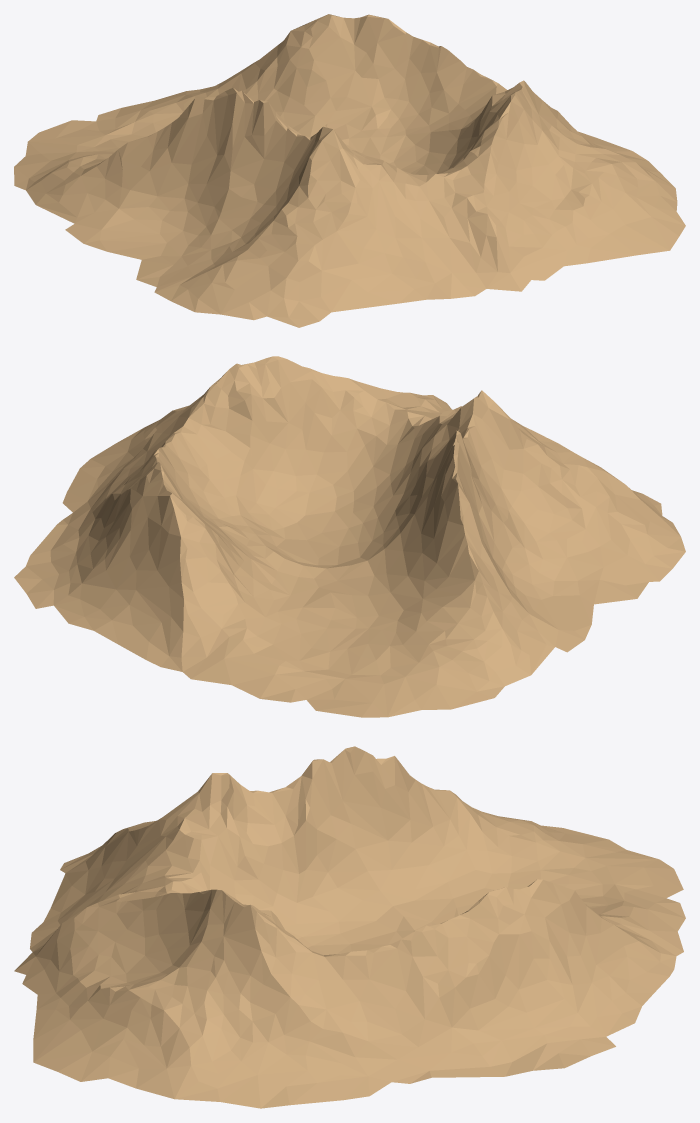
File: MT_Mountain_L_d_03.fbx
3 views of the same model, one above another, from view 1: azimuth 30°, elevation 25°; view 2: azimuth 150°, elevation 25°; view 3: azimuth 270°, elevation 25° (orthographic). The views are drawn at different scales.
Visible parts, largest first — view 1: MT_Mountain_L_d_03; view 2: MT_Mountain_L_d_03; view 3: MT_Mountain_L_d_03.
Part boxes in pixels (x1,y1,x2,y2): MT_Mountain_L_d_03: (14,14,685,327); MT_Mountain_L_d_03: (14,356,685,717); MT_Mountain_L_d_03: (14,746,685,1108).
Bounding box in the file's own units: 9517 × 2402 × 9513.
